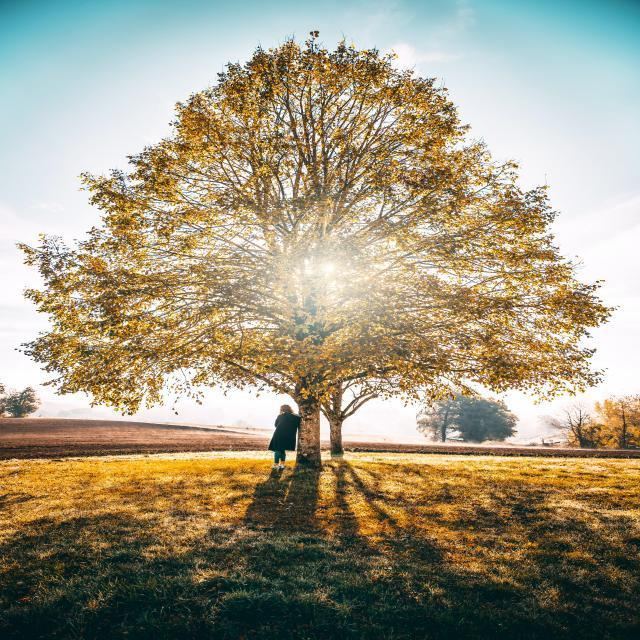tree: (18, 51, 638, 502)
